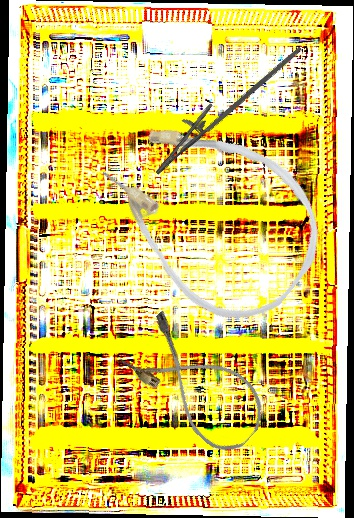Cannula: (74, 80, 349, 347), (115, 306, 278, 463)
Needle Holder: (143, 21, 304, 191)
